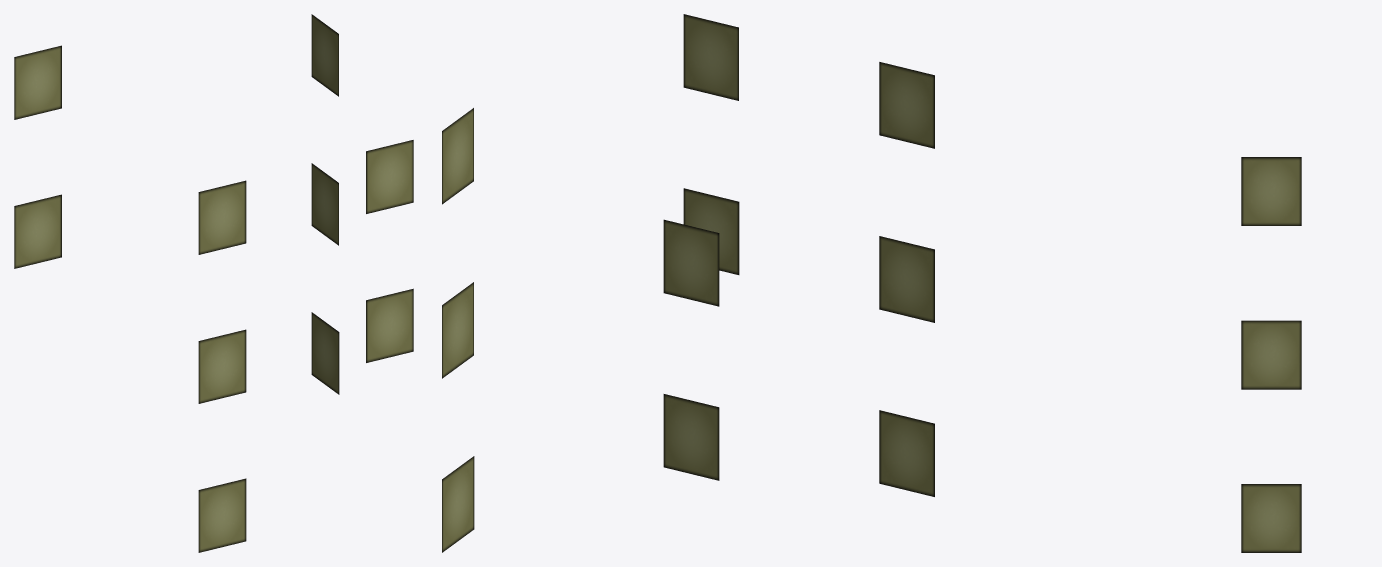
File: house_16.FBX
The picture shows the model from 3 angles, left to right: view 1: azimuth 30°, elevation 25°; view 2: azimuth 150°, elevation 25°; view 3: azimuth 270°, elevation 25°; orthographic projection. The views are drawn at different scales.
Parts seen in each view (by area): view 1: house_16_windows; view 2: house_16_windows; view 3: house_16_windows.
Boxes of the visible parts, x1,y1,x2,y2 form: house_16_windows: (14, 14, 413, 552); house_16_windows: (442, 14, 934, 552); house_16_windows: (1241, 157, 1301, 552).
Bounding box in the file's own units: 63.85 × 82.36 × 76.3.
